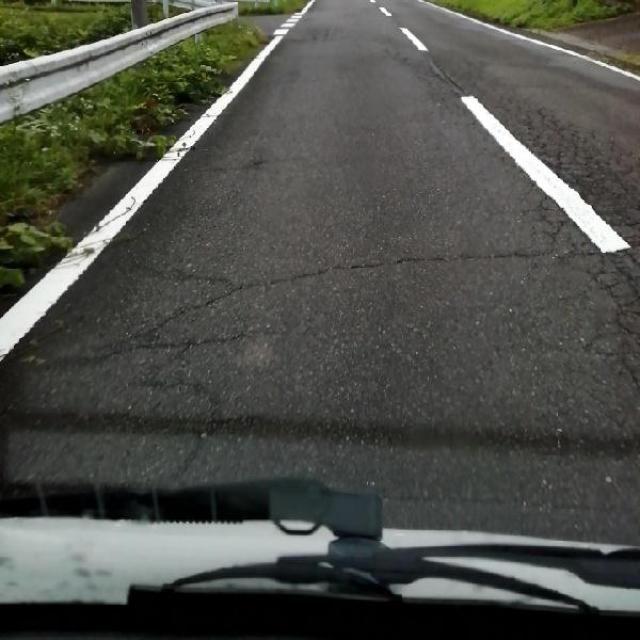Crack: (0, 197, 640, 440)
